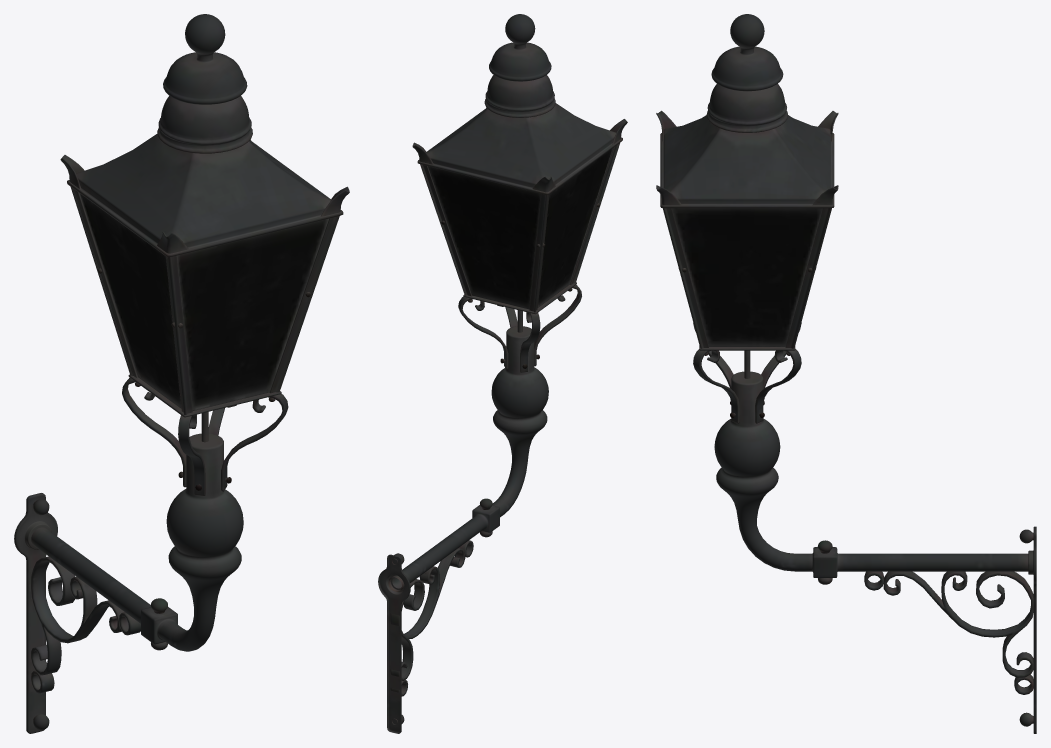
File: street_lamp_02.glb
3 renders of one model, left to right at view 1: azimuth 30°, elevation 25°; view 2: azimuth 150°, elevation 25°; view 3: azimuth 270°, elevation 25°, orthographic. The views are drawn at different scales.
Visible parts, largest first — view 1: street_lamp_02_mesh; view 2: street_lamp_02_mesh; view 3: street_lamp_02_mesh.
Part boxes in pixels (x1,y1,x2,y2): street_lamp_02_mesh: (14,14,349,733); street_lamp_02_mesh: (378,14,627,733); street_lamp_02_mesh: (656,14,1036,733).
Size of the model in its own units: 0.3865 by 1.68 by 0.8067.
3 materials, 3 textured.
